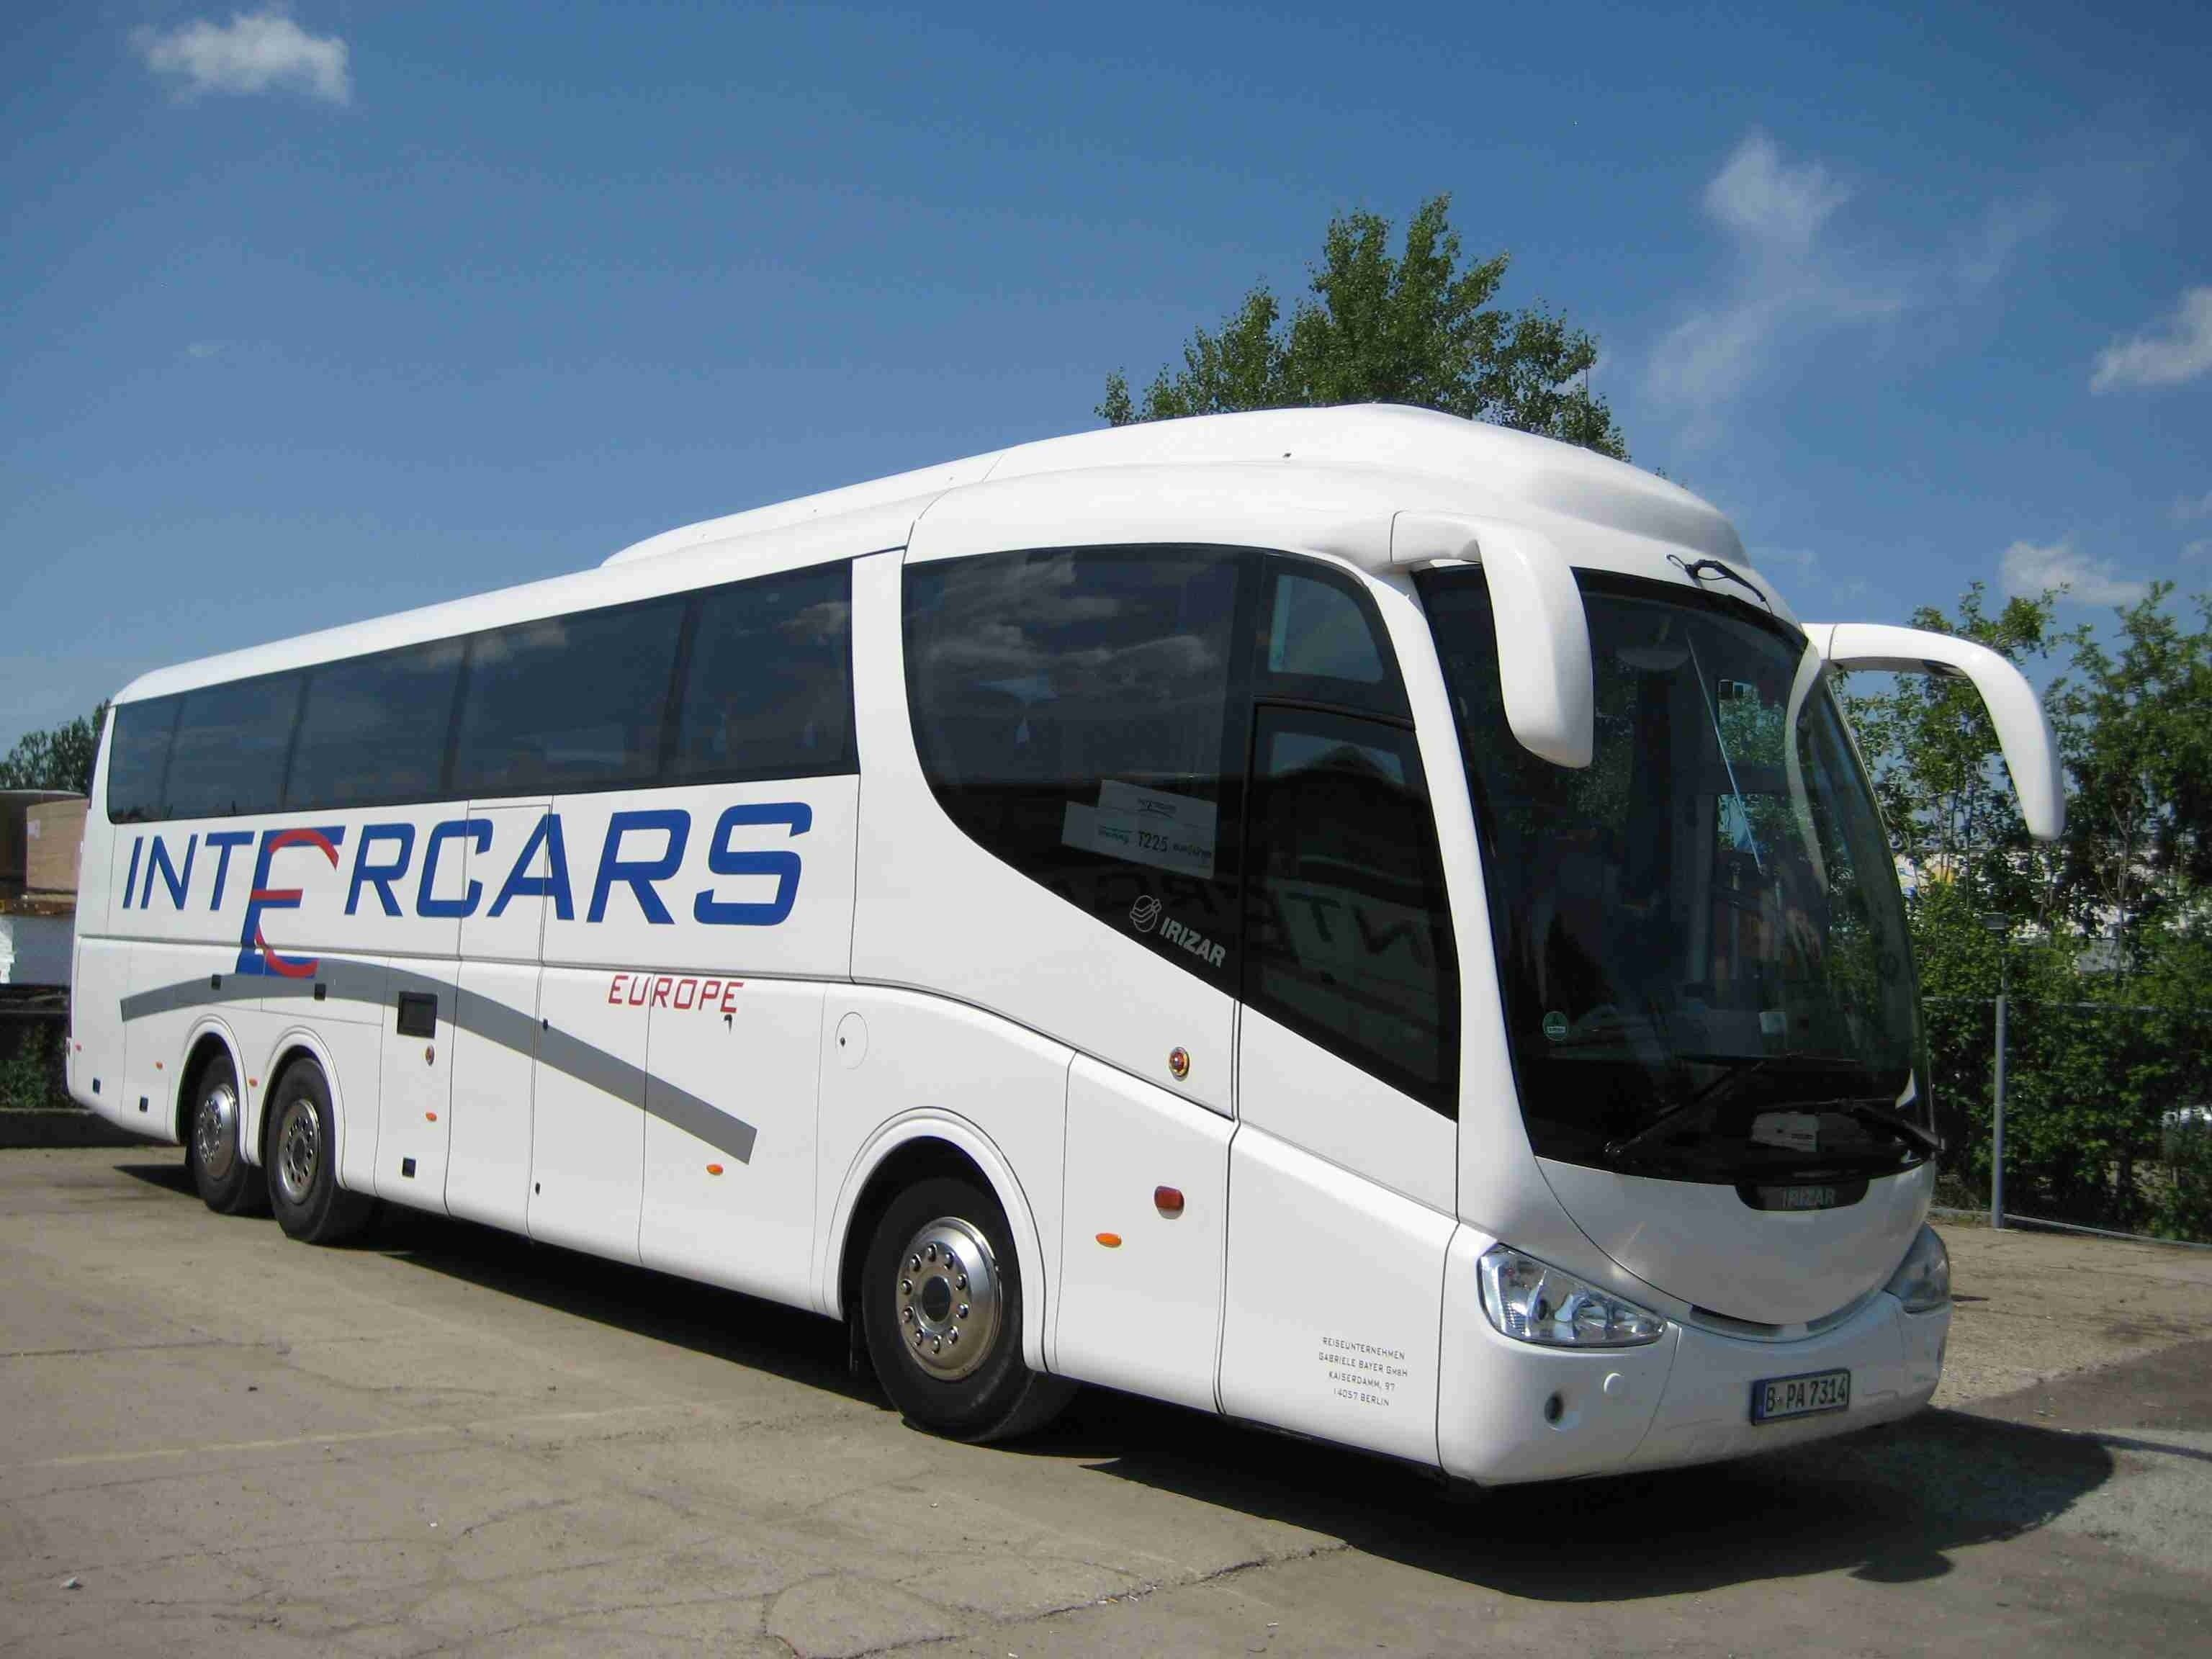bus: (57, 397, 2067, 1495)
